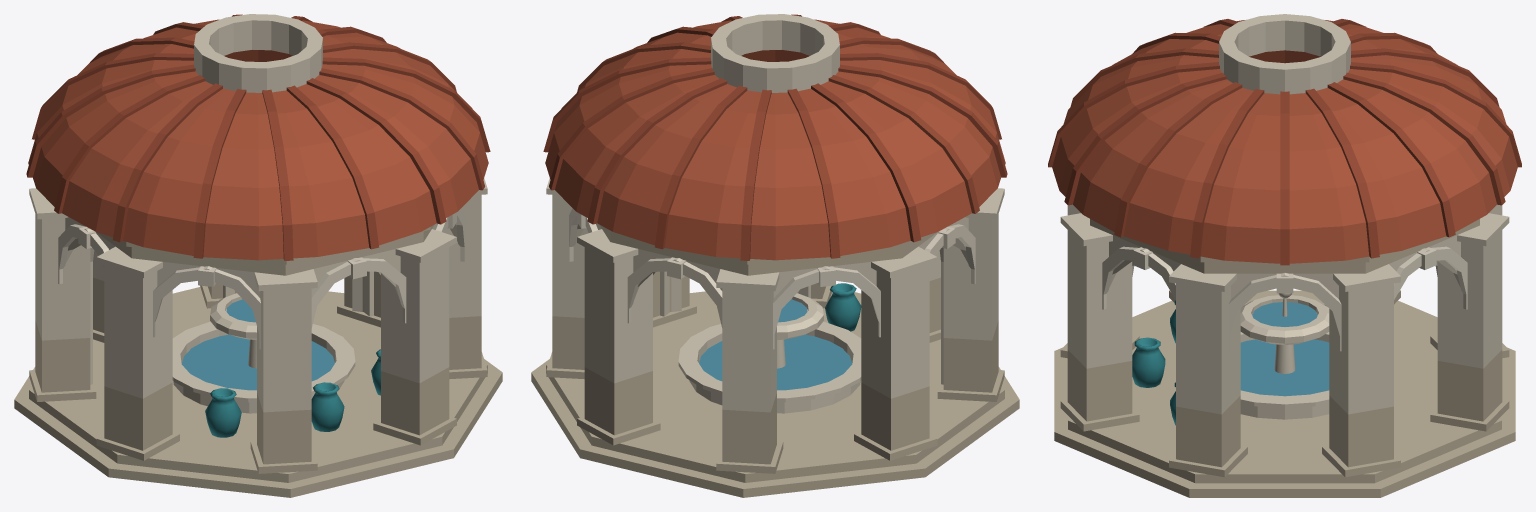
The model's file is rome_tholos_fountain.glb.
3 renders of one model, left to right at view 1: azimuth 30°, elevation 25°; view 2: azimuth 150°, elevation 25°; view 3: azimuth 270°, elevation 25°, orthographic.
Visible parts, largest first — view 1: rome_tholos_fountain; view 2: rome_tholos_fountain; view 3: rome_tholos_fountain.
Part boxes in pixels (x1,y1,x2,y2): rome_tholos_fountain: (14,14,502,497); rome_tholos_fountain: (531,14,1019,497); rome_tholos_fountain: (1048,14,1521,497).
Bounding box in the file's own units: 8.62 × 7.2 × 8.62.
